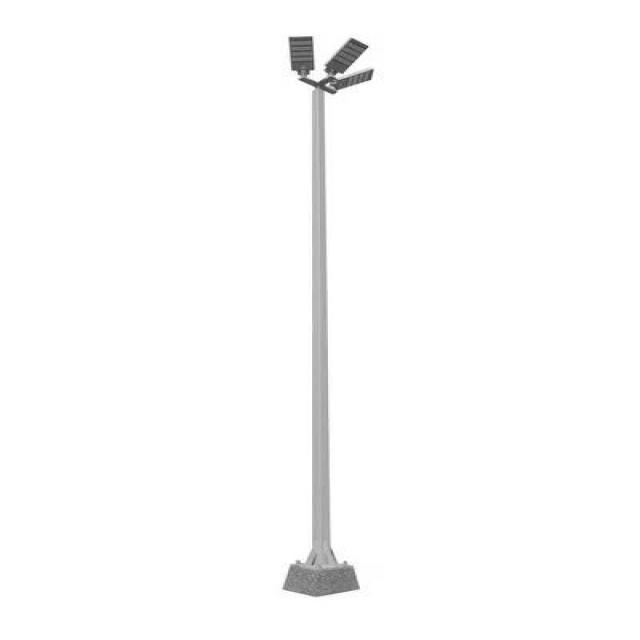Pole: (283, 36, 373, 597)
